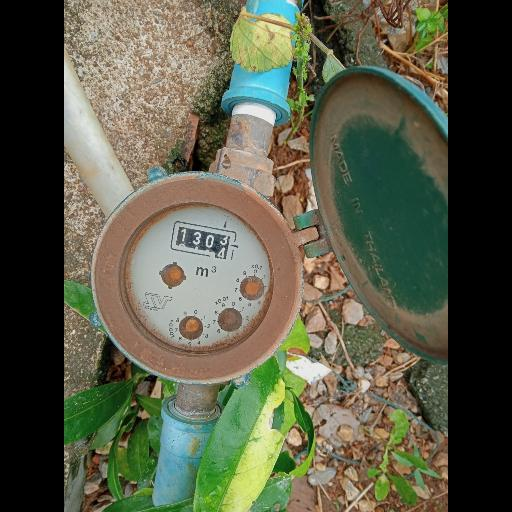0: (203, 232, 218, 252)
1: (177, 226, 192, 247)
3: (214, 234, 230, 260), (190, 229, 205, 250)
border_water_meter_number: (169, 221, 241, 262)
